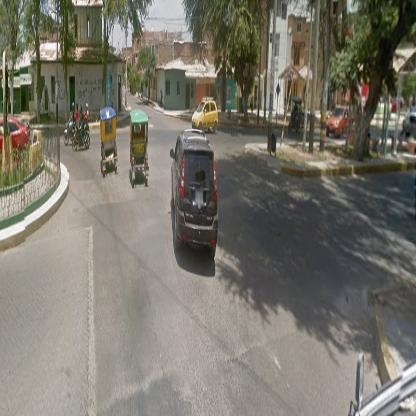Obstaculo: (84, 226, 98, 416)
Vehiculo: (171, 130, 219, 261), (130, 110, 150, 188), (101, 107, 118, 177)
